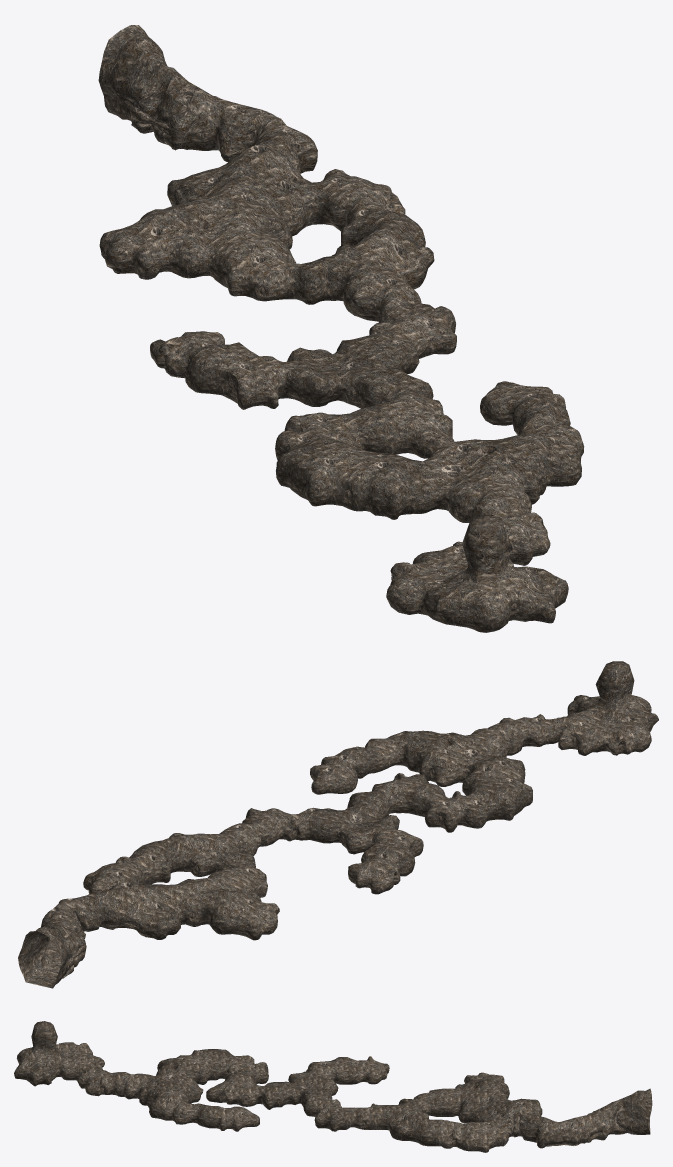
3 views of the same model, one above another, from view 1: azimuth 30°, elevation 25°; view 2: azimuth 150°, elevation 25°; view 3: azimuth 270°, elevation 25° (orthographic). The views are drawn at different scales.
Visible parts, largest first — view 1: Chunk-41_Mesh-0, Chunk-8_Mesh-0, Chunk-42_Mesh-0, Chunk-35_Mesh-0, Chunk-6_Mesh-2, Chunk-39_Mesh-0, Chunk-33_Mesh-0, Chunk-23_Mesh-0, Chunk-21_Mesh-0, Chunk-0_Mesh-1, Chunk-44_Mesh-0, Chunk-2_Mesh-0 (+20 smaller); view 2: Chunk-41_Mesh-0, Chunk-8_Mesh-0, Chunk-39_Mesh-0, Chunk-35_Mesh-0, Chunk-42_Mesh-0, Chunk-3_Mesh-1, Chunk-23_Mesh-0, Chunk-15_Mesh-0, Chunk-6_Mesh-2, Chunk-5_Mesh-0, Chunk-17_Mesh-0, Chunk-33_Mesh-0 (+20 smaller); view 3: Chunk-41_Mesh-0, Chunk-42_Mesh-0, Chunk-8_Mesh-0, Chunk-39_Mesh-0, Chunk-35_Mesh-0, Chunk-33_Mesh-0, Chunk-23_Mesh-0, Chunk-44_Mesh-0, Chunk-6_Mesh-2, Chunk-2_Mesh-0, Chunk-3_Mesh-1, Chunk-9_Mesh-0 (+20 smaller).
Boxes of the visible parts, x1,y1,x2,y2 form: Chunk-41_Mesh-0: (103, 136, 388, 257); Chunk-8_Mesh-0: (295, 437, 539, 506); Chunk-42_Mesh-0: (112, 45, 317, 173); Chunk-35_Mesh-0: (220, 214, 424, 288); Chunk-6_Mesh-2: (290, 456, 541, 522); Chunk-39_Mesh-0: (99, 148, 391, 281); Chunk-33_Mesh-0: (214, 224, 434, 312); Chunk-23_Mesh-0: (193, 337, 404, 390); Chunk-21_Mesh-0: (189, 341, 393, 409); Chunk-0_Mesh-1: (388, 559, 568, 632); Chunk-44_Mesh-0: (122, 35, 311, 146); Chunk-2_Mesh-0: (394, 561, 558, 609); Chunk-41_Mesh-0: (86, 865, 276, 926); Chunk-8_Mesh-0: (414, 725, 524, 793); Chunk-39_Mesh-0: (83, 868, 279, 940); Chunk-35_Mesh-0: (138, 831, 261, 885); Chunk-42_Mesh-0: (27, 901, 98, 983); Chunk-3_Mesh-1: (499, 714, 647, 755); Chunk-23_Mesh-0: (317, 796, 421, 855); Chunk-15_Mesh-0: (412, 785, 520, 832); Chunk-6_Mesh-2: (411, 731, 532, 813); Chunk-5_Mesh-0: (488, 714, 644, 743); Chunk-17_Mesh-0: (414, 782, 516, 814); Chunk-33_Mesh-0: (168, 833, 267, 897); Chunk-41_Mesh-0: (448, 1072, 540, 1143); Chunk-42_Mesh-0: (532, 1100, 641, 1148); Chunk-8_Mesh-0: (122, 1049, 213, 1093); Chunk-39_Mesh-0: (448, 1073, 542, 1152); Chunk-35_Mesh-0: (383, 1088, 448, 1132); Chunk-33_Mesh-0: (383, 1089, 448, 1146); Chunk-23_Mesh-0: (279, 1057, 344, 1094); Chunk-44_Mesh-0: (535, 1090, 641, 1134); Chunk-6_Mesh-2: (122, 1050, 213, 1105); Chunk-2_Mesh-0: (18, 1042, 70, 1072); Chunk-3_Mesh-1: (70, 1043, 122, 1096); Chunk-9_Mesh-0: (147, 1094, 213, 1128).
Size of the model in its own units: 7413 by 1600 by 19793.
Materials: 4 (4 with a texture image).
